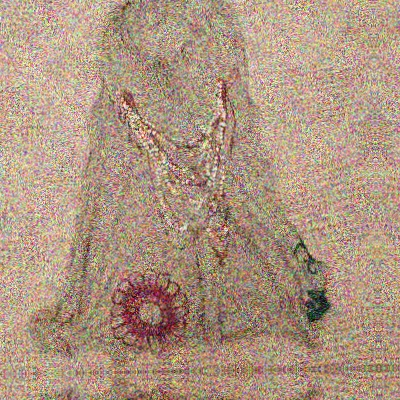Dress: (42, 0, 339, 354), (49, 389, 346, 400)
